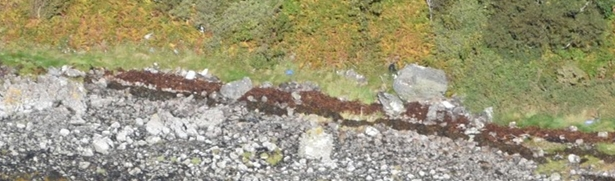white_in_green: (270, 52, 312, 91)
